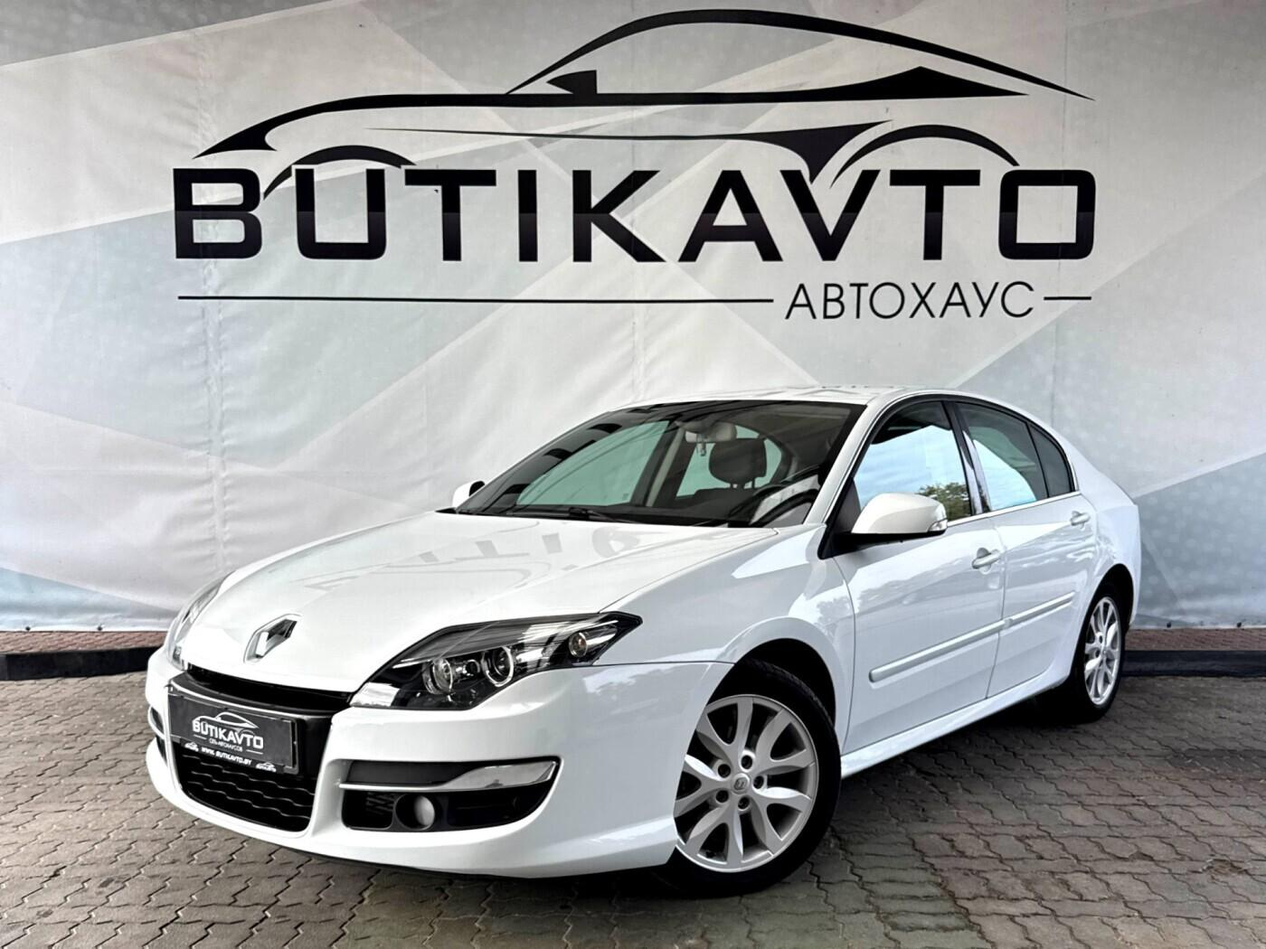Laguna_2010-2015: (111, 376, 1151, 903)
